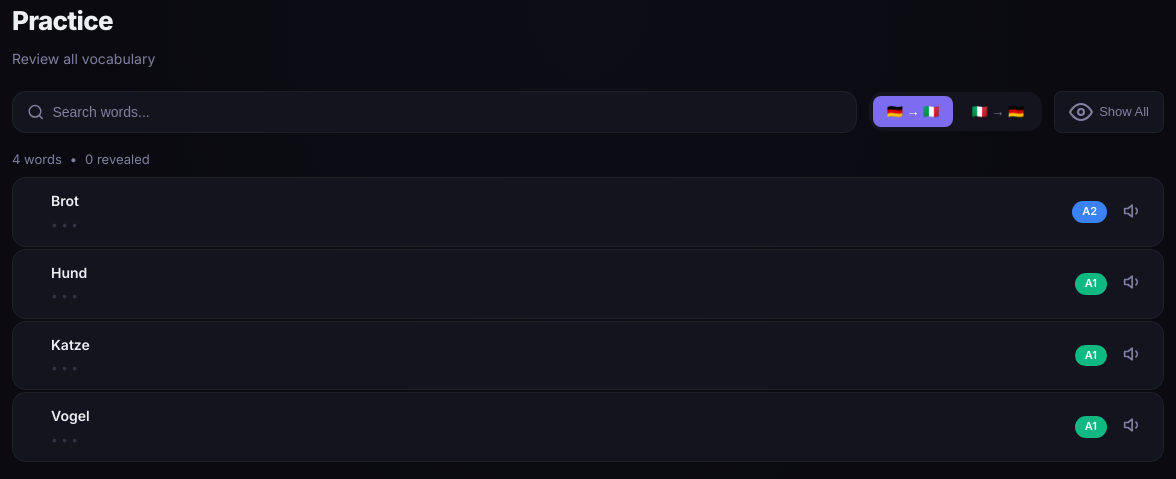
Scenario: PracticePage › reveals translation on click
Click the text "Hund": {"x": 69, "y": 272} [51,264,87,281]
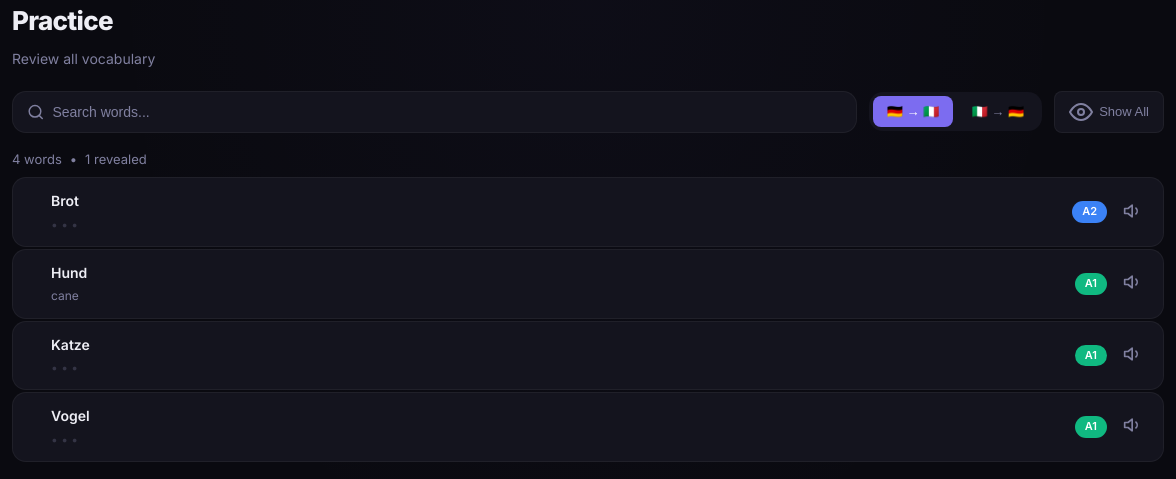
Check: the text "cane" is shown, box [51,288,79,303]
